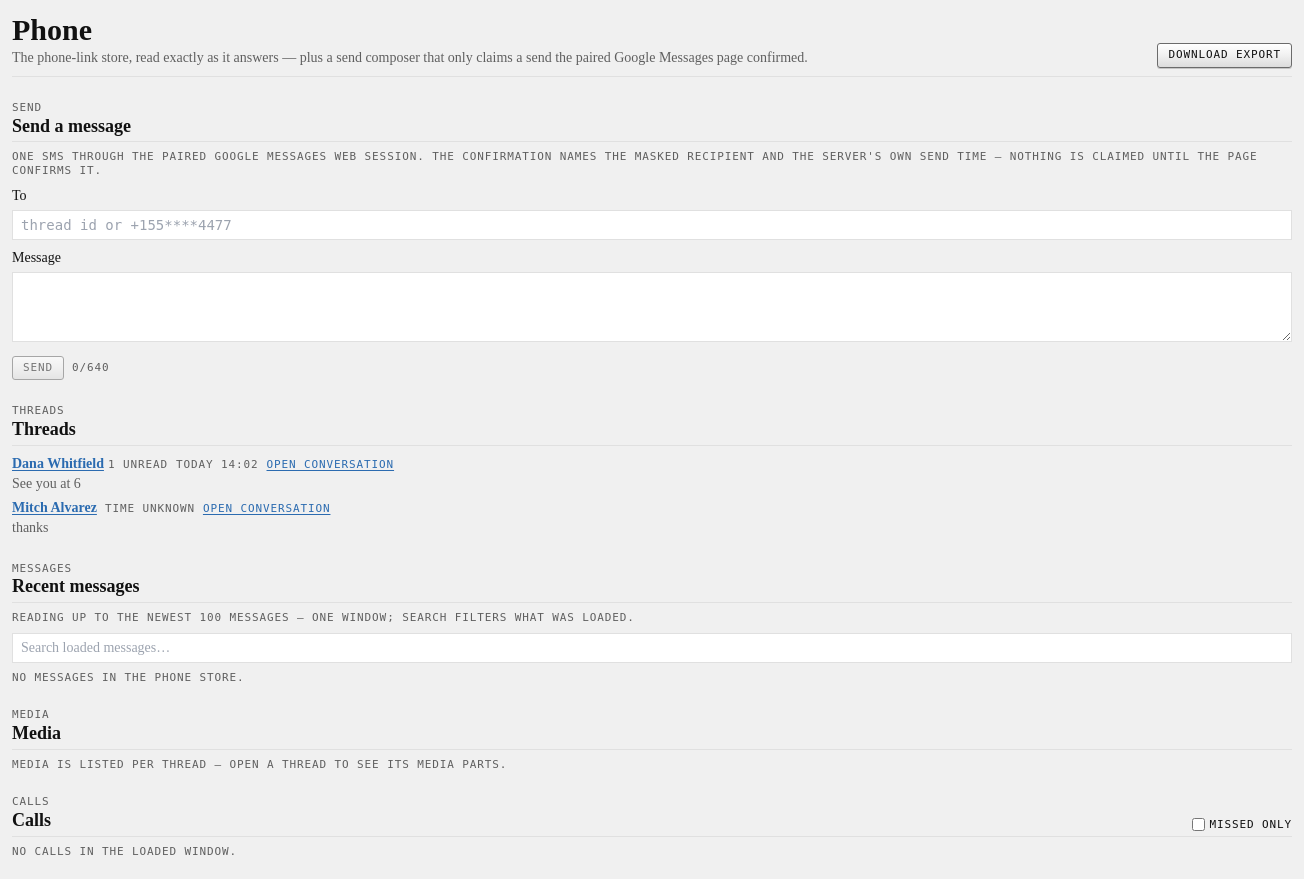
Test: phone send composer — honest refusals › E_PHONE_SEND_UNPAIRED names the pairing gap and disables the composer
Type "+15550104477" into the field with test id "phone-send-to" at (652, 225), box [12,210,1292,240]
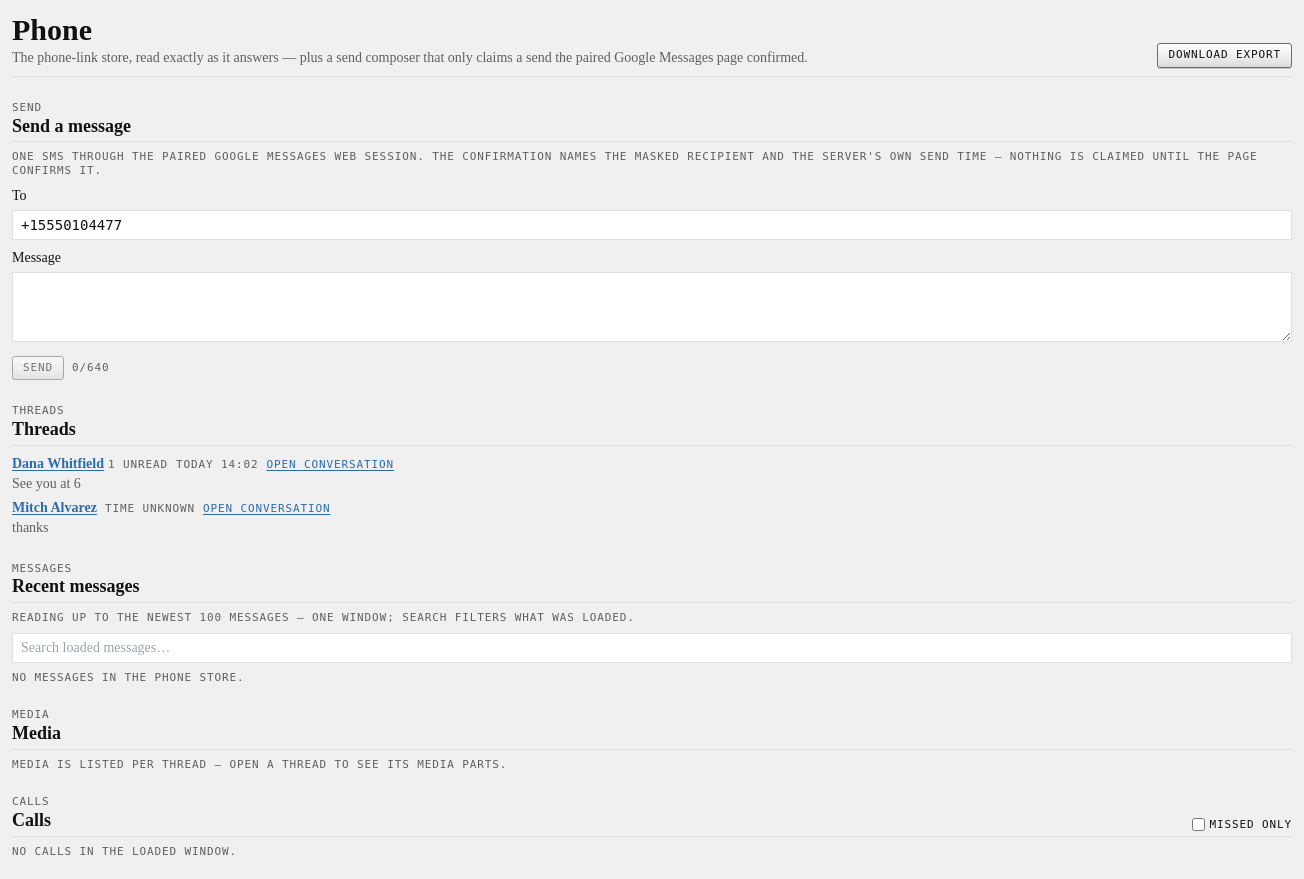
Type "hi" into the text box with test id "phone-send-body" at (652, 307), box [12,272,1292,342]
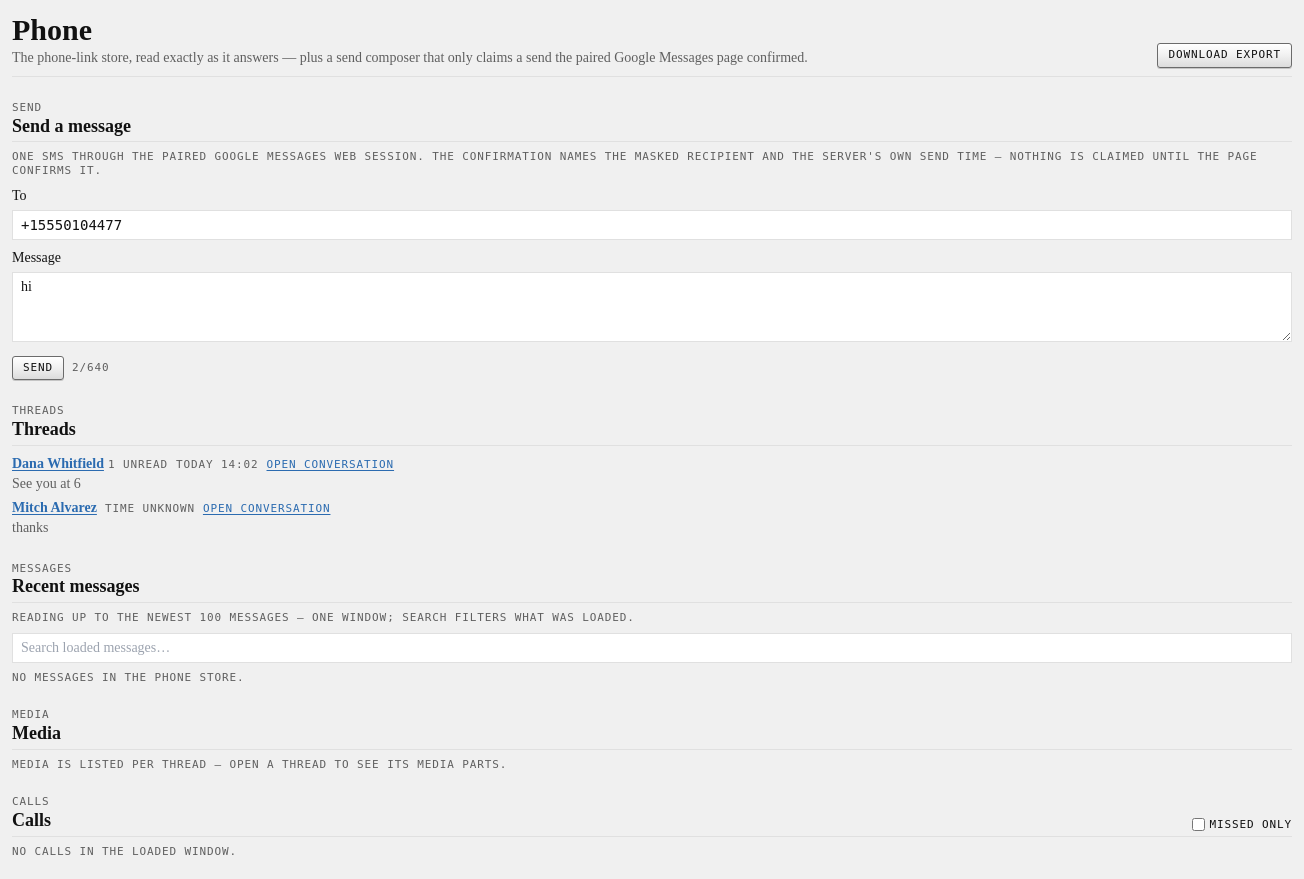
Click the button with test id "phone-send-submit" at (38, 368), box [12,356,64,380]
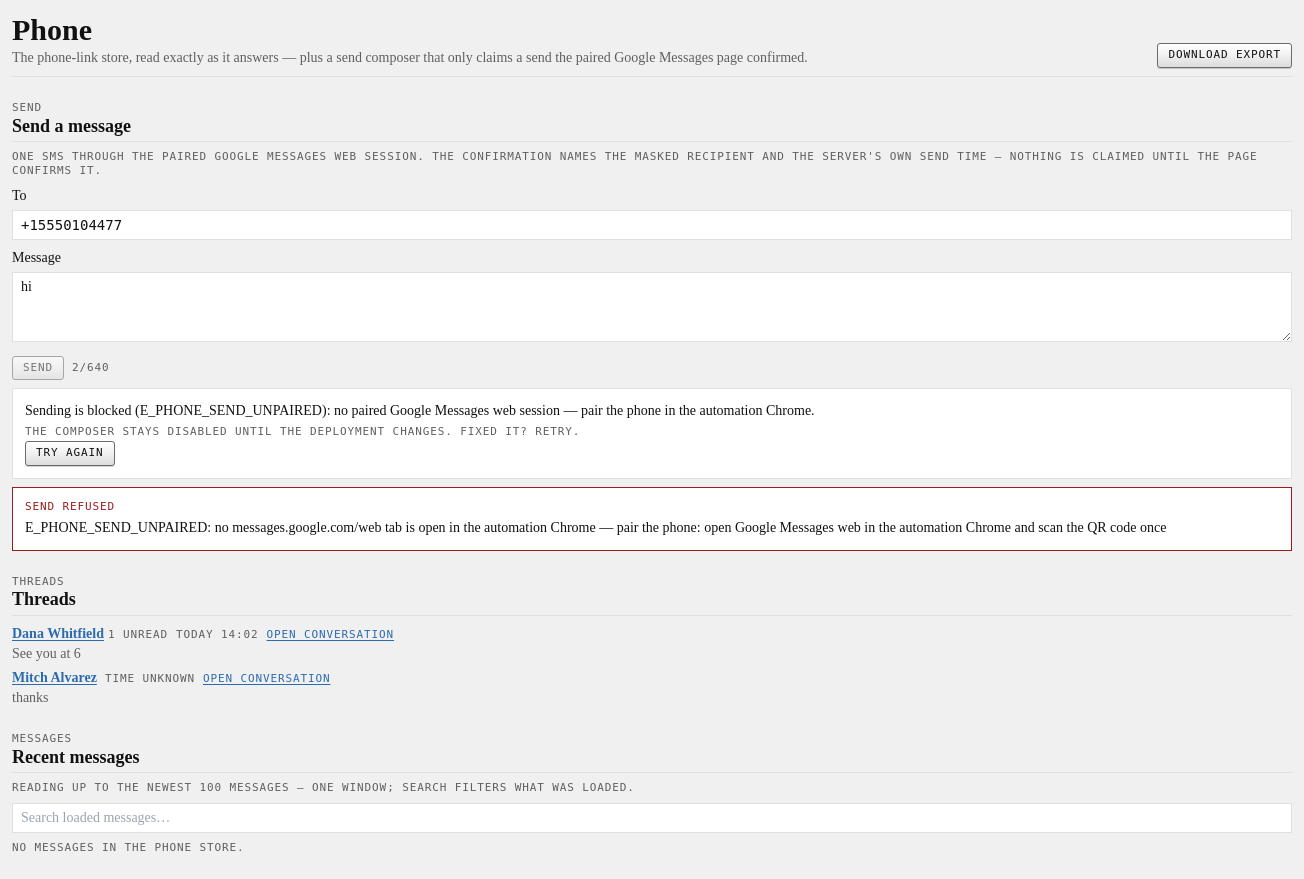
Result: the message with test id "phone-send-error" shows "E_PHONE_SEND_UNPAIRED" at [25,520,1166,534]
Result: the message with test id "phone-send-error" shows "no messages.google.com/web tab" at [25,520,1166,534]
Result: the button with test id "phone-send-submit" is disabled at [12,356,64,380]
